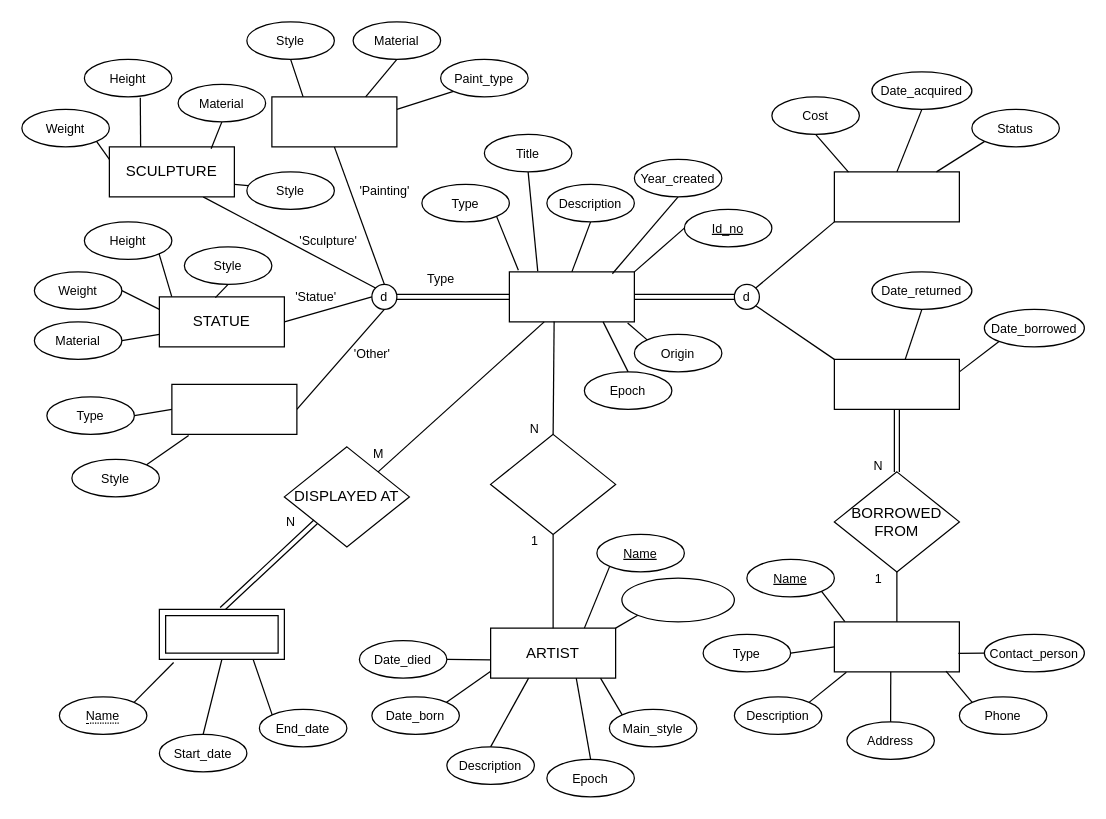
This 1106x819 diagram has some shape labels left out. Each missing label, with the centre of its shape:
ART_OBJECT: the point at 571,296
BORROWED: the point at 896,383
COLLECTION: the point at 896,646
Country_of_origin: the point at 677,599
CREATED BY: the point at 552,483
EXHIBITION: the point at 221,633
OTHER: the point at 234,408
PAINTING: the point at 334,121
PERMANENT COLLECTION: the point at 896,196
